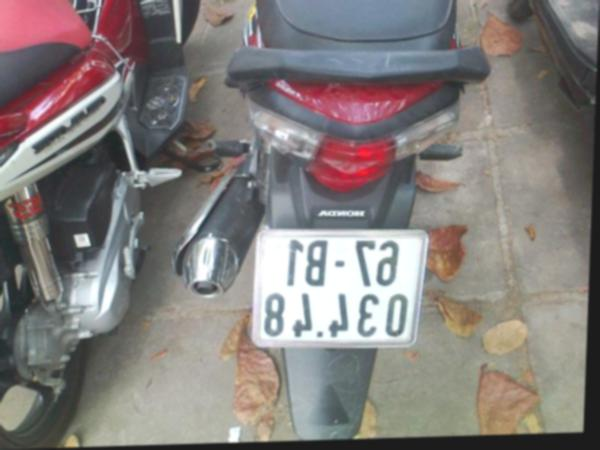License_Plate: (247, 229, 425, 349)
